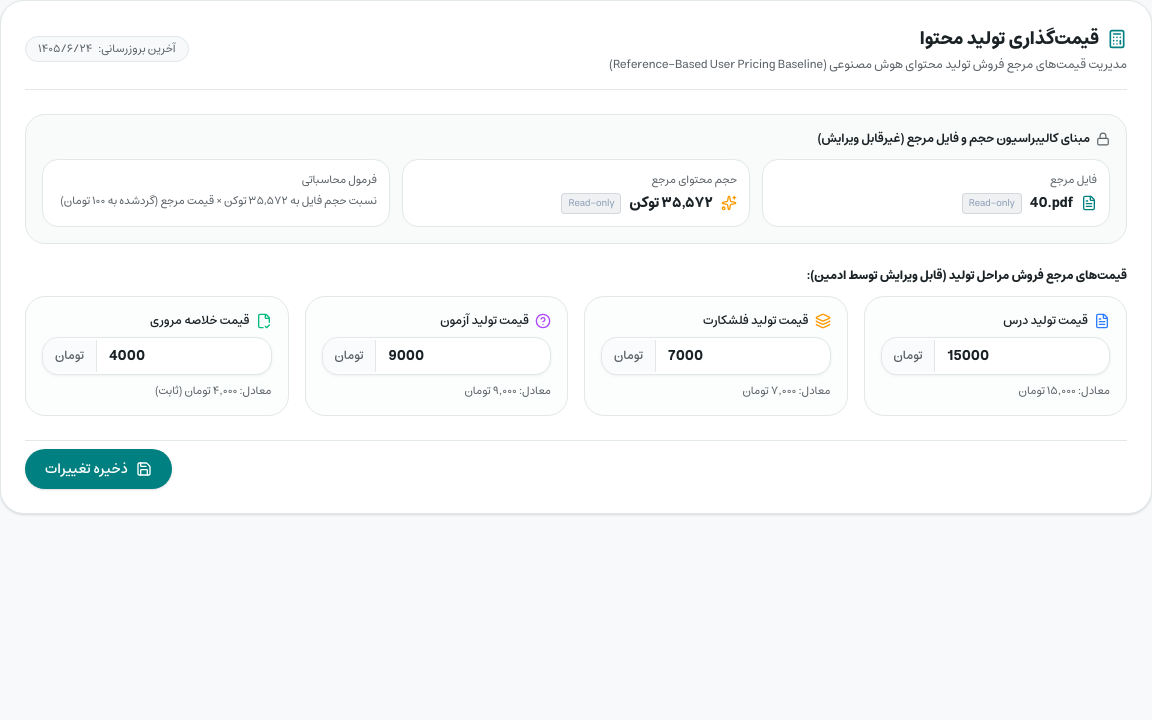
it: Admin Content Generation Pricing UI Suite › 4. Successfully submits updated baseline prices and displays success message
Step 1. Type "20000" into the number field with placeholder "15000" below "قیمت تولید درس" → (1022, 356), box [935, 338, 1109, 374]
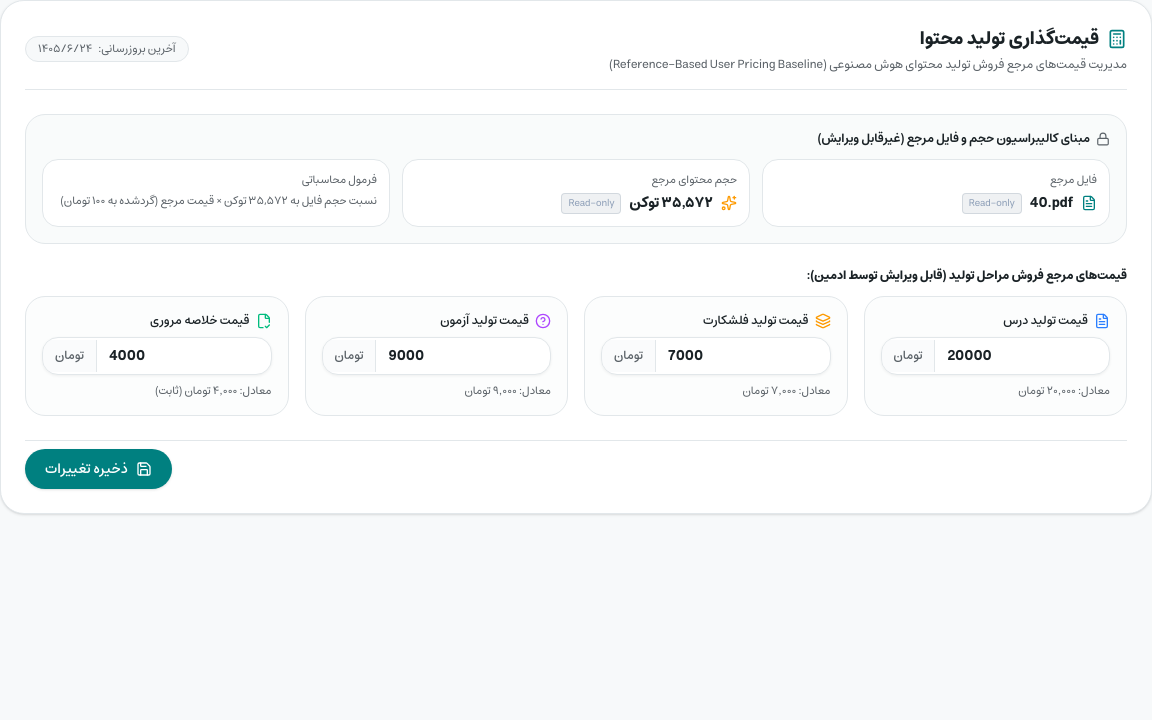
Step 2. Type "10000" into the number field with placeholder "7000" below "قیمت تولید فلشکارت" → (743, 356), box [656, 338, 830, 374]
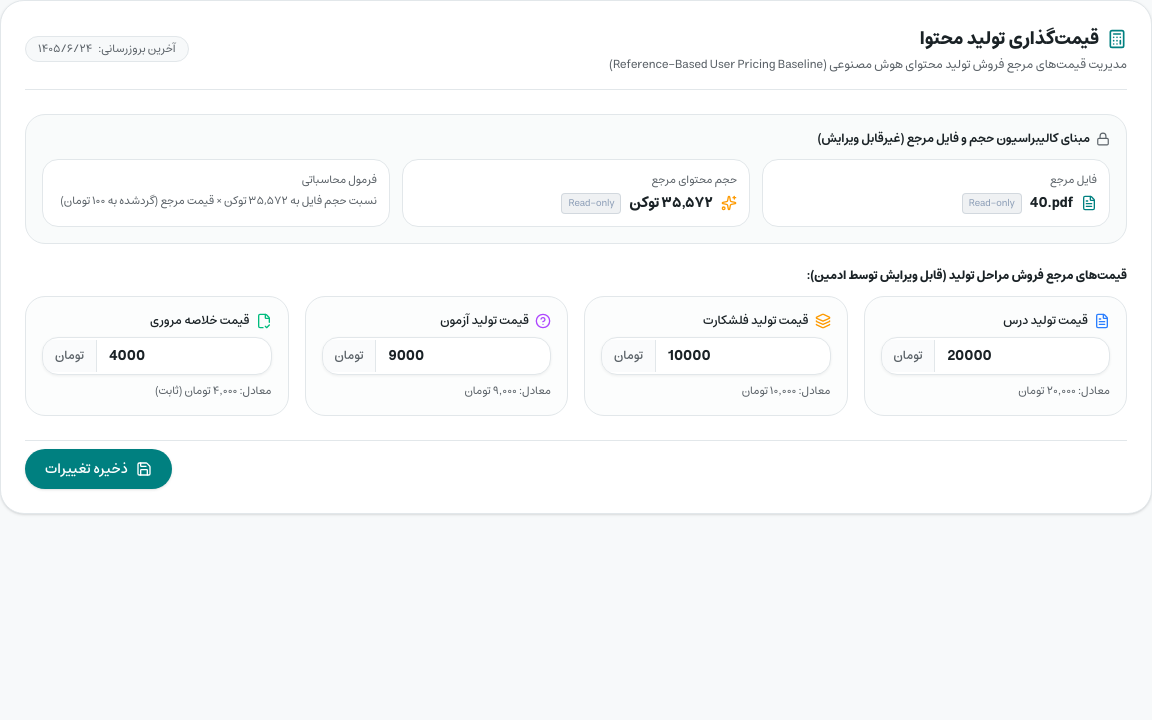
Step 3. Type "12000" into the number field with placeholder "9000" below "قیمت تولید آزمون" → (463, 356), box [376, 338, 550, 374]
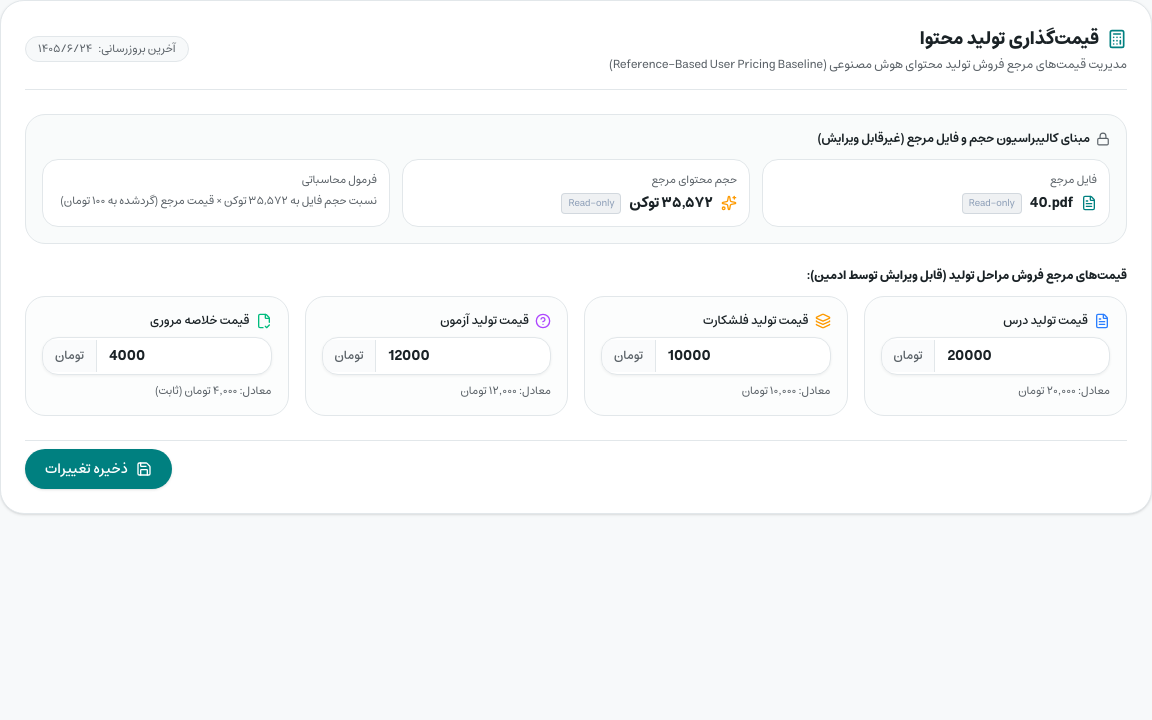
Step 4. Type "5000" into the number field with placeholder "4000" below "قیمت خلاصه مروری" → (184, 356), box [97, 338, 270, 374]
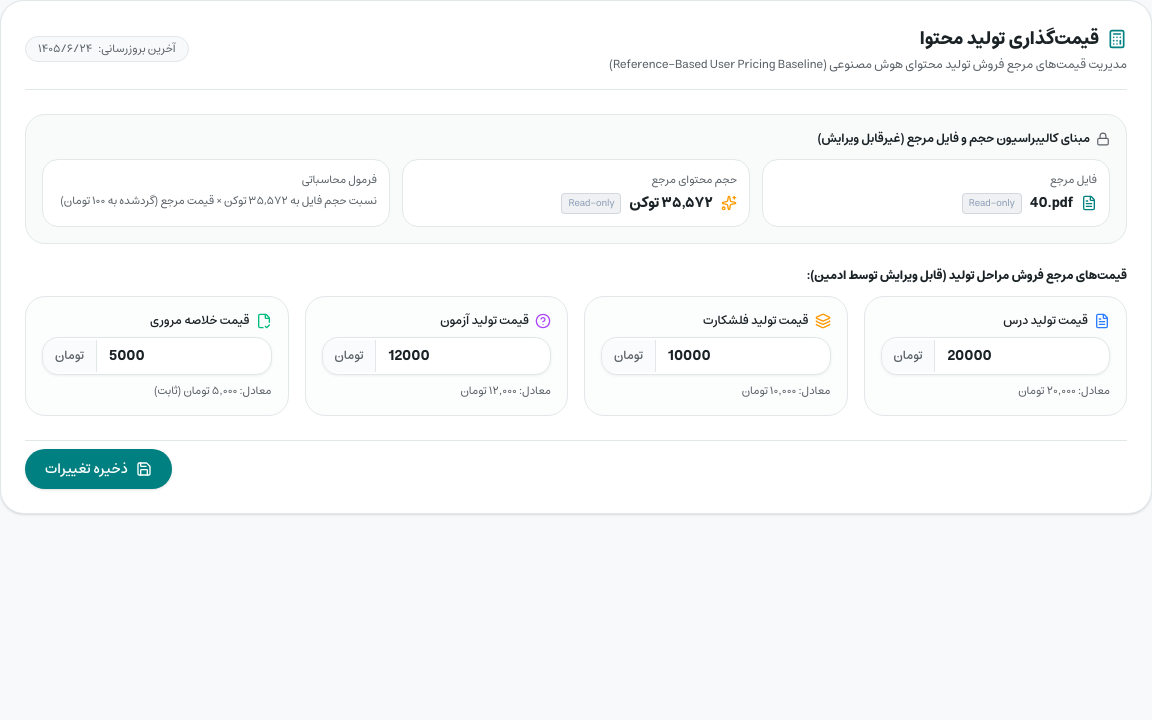
Step 5. Click the button "ذخیره تغییرات" → (98, 469), box [25, 449, 172, 489]
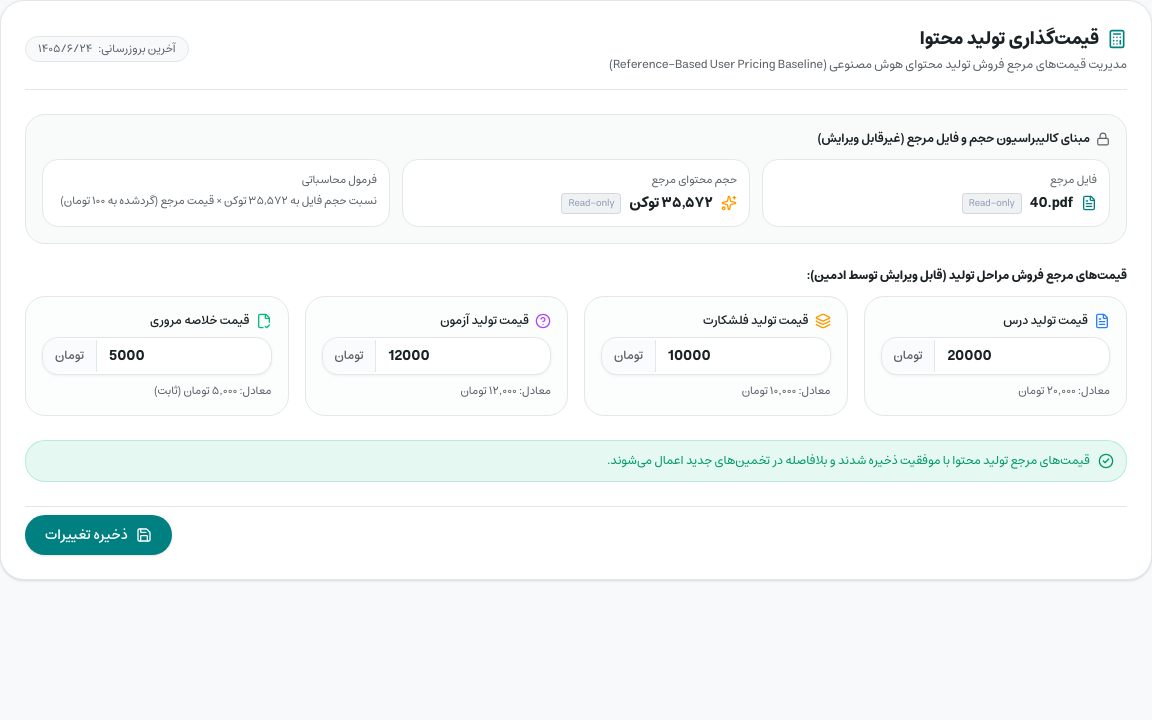
Now the text "قیمت‌های مرجع تولید محتوا با موفقیت ذخیره شدند" is shown, box [607, 450, 1090, 471]
